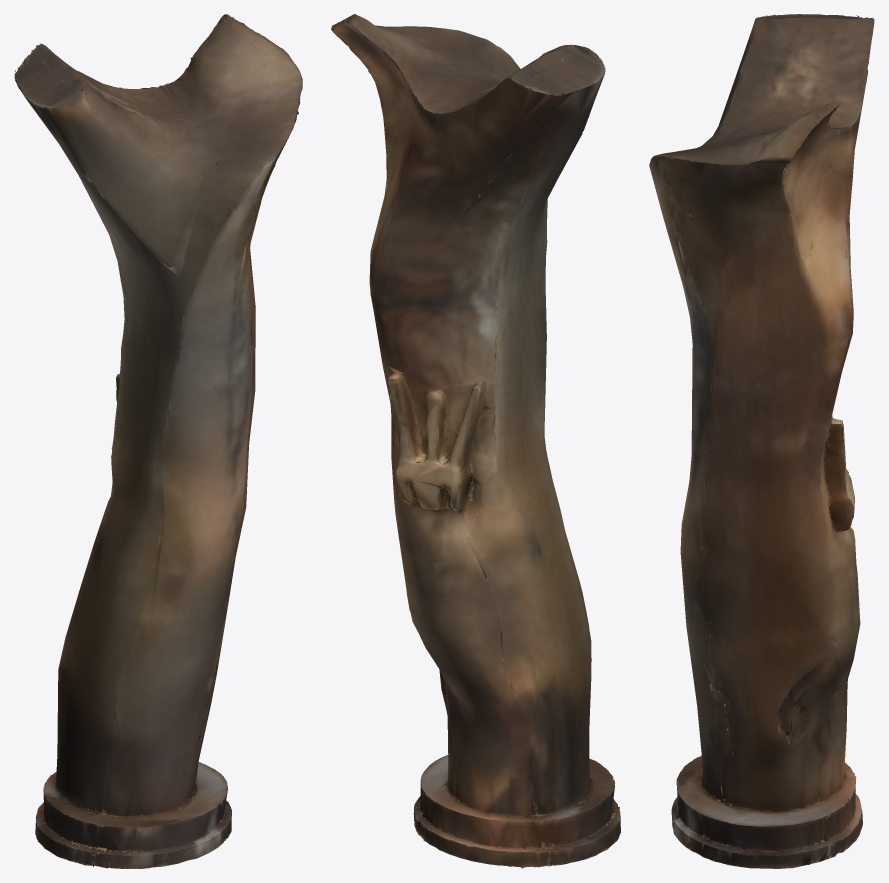
Rendered from pilier_6.glb.
3 views of the same model, side by side, from view 1: azimuth 30°, elevation 25°; view 2: azimuth 150°, elevation 25°; view 3: azimuth 270°, elevation 25° (orthographic). The views are drawn at different scales.
Parts seen in each view (by area): view 1: Mesh_0.007; view 2: Mesh_0.007; view 3: Mesh_0.007.
Part boxes in pixels (x1=…): Mesh_0.007: x1=14, y1=14, x2=302, y2=868; Mesh_0.007: x1=331, y1=14, x2=620, y2=868; Mesh_0.007: x1=649, y1=14, x2=874, y2=868.
Size of the model in its own units: 0.381 by 1.08 by 0.2808.
1 material, 1 textured.
